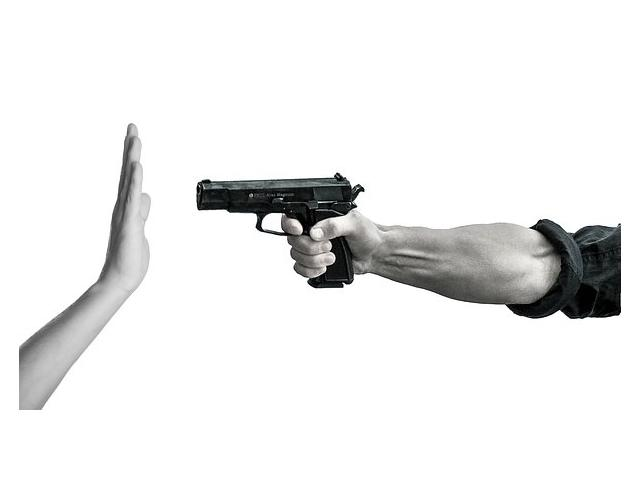pistol: (193, 173, 367, 287)
